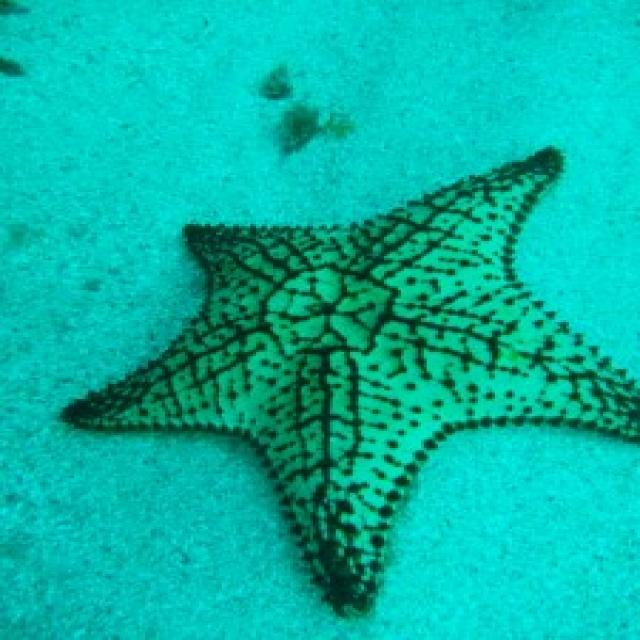Starfish: (57, 132, 640, 619)
